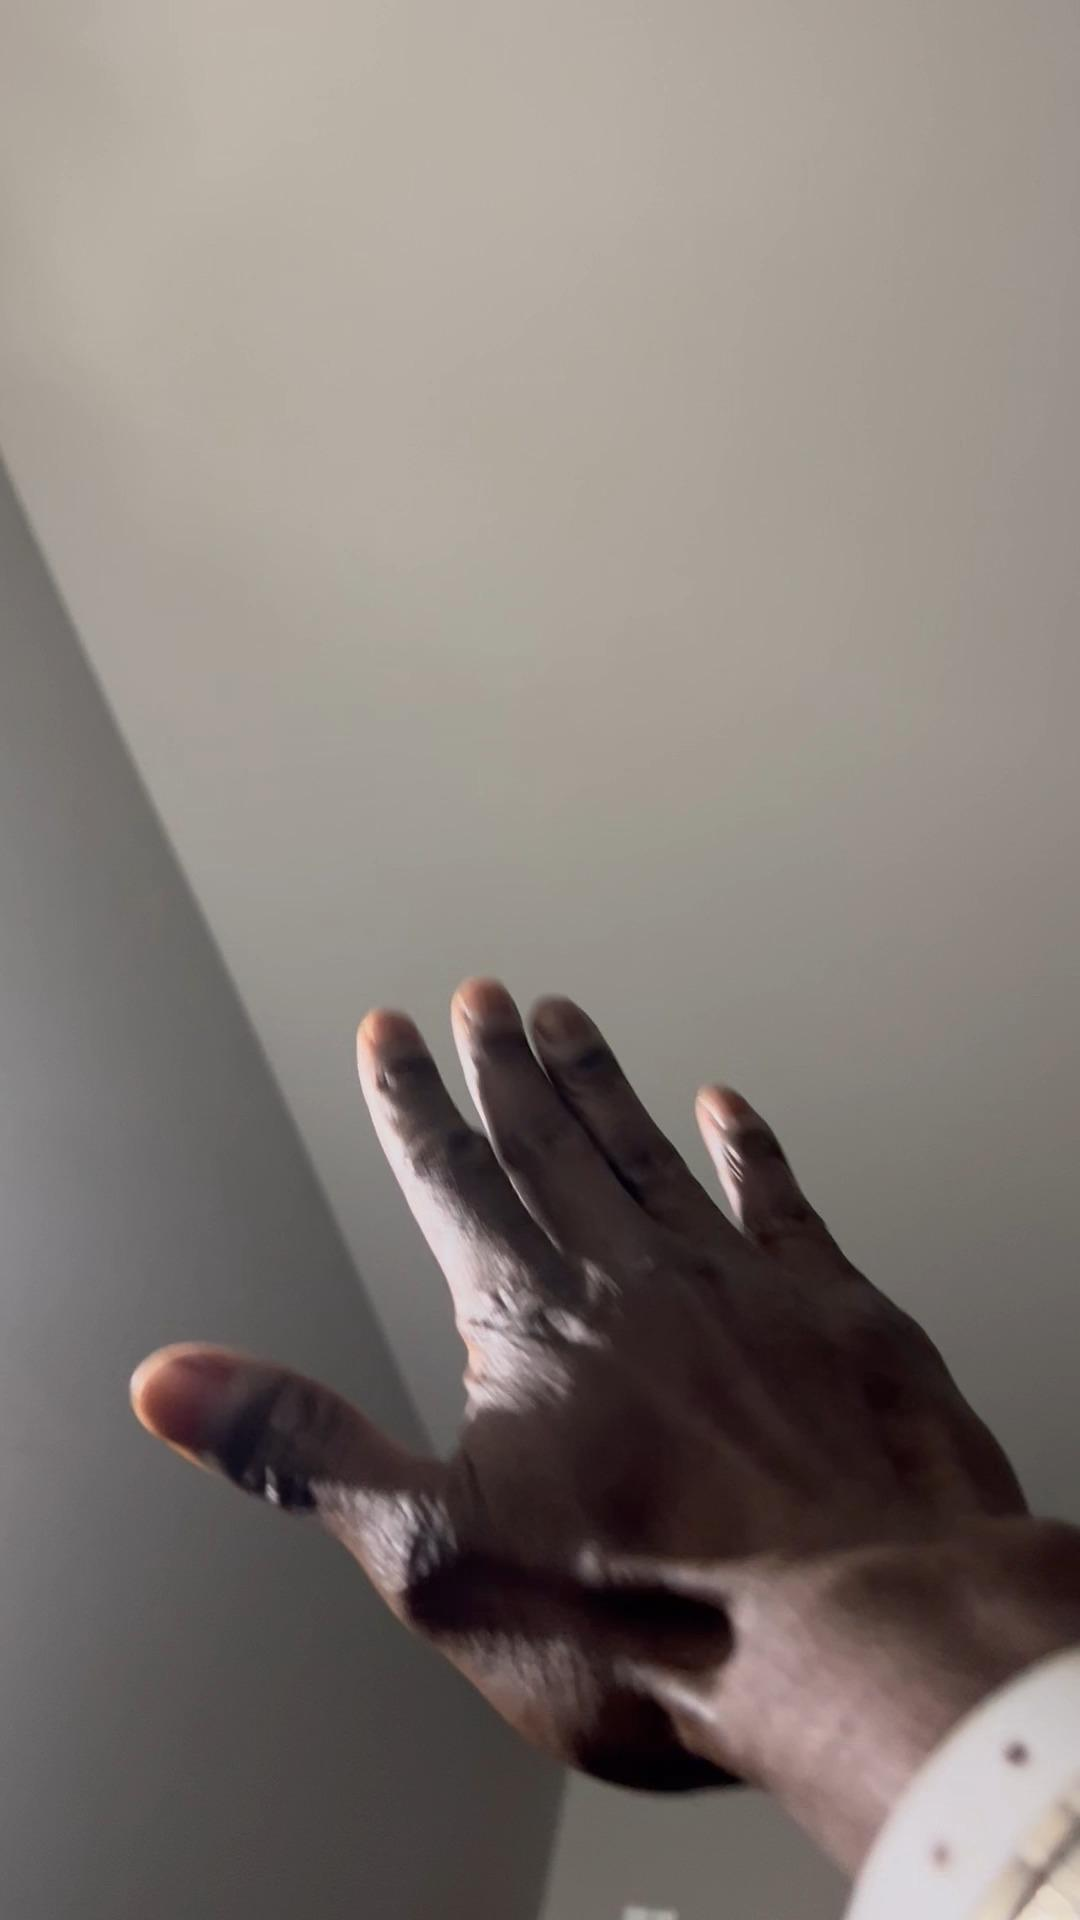Paper: (124, 980, 1038, 1803)
